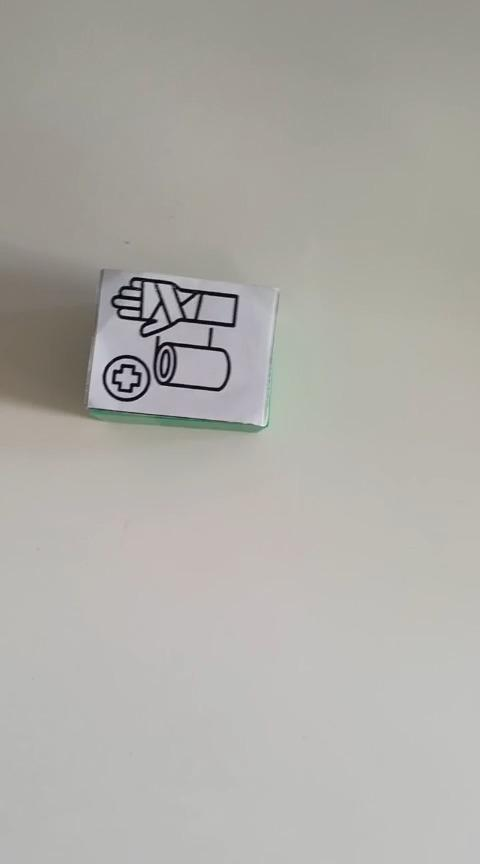Bandages: (83, 268, 280, 431)
